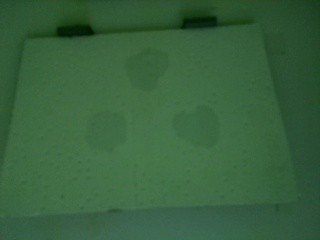Water_detected: (84, 112, 134, 158), (127, 49, 164, 85), (181, 107, 217, 143)
